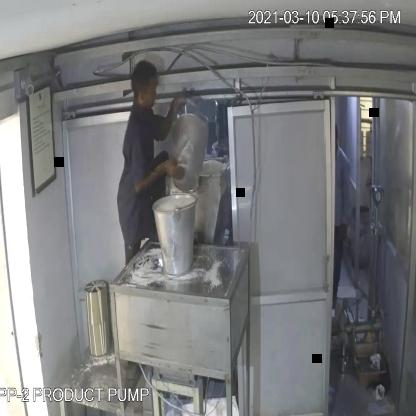no_glove: (129, 151, 186, 206)
